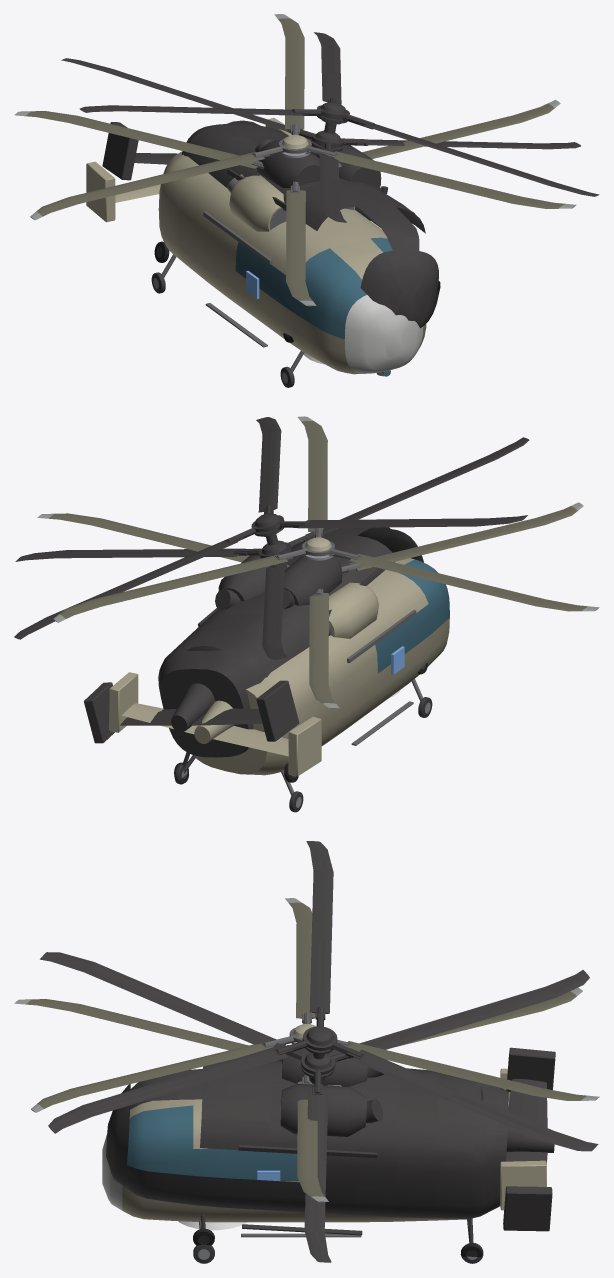
The model's file is navalHelicopter__ka_27pl.glb.
The picture shows the model from 3 angles, top to bottom: view 1: azimuth 30°, elevation 25°; view 2: azimuth 150°, elevation 25°; view 3: azimuth 270°, elevation 25°; orthographic projection. The views are drawn at different scales.
Parts seen in each view (by area): view 1: Fuselage_Mesh, Wreck, Rotor_Main_2_Mesh, Rotor_Main_Mesh, Engines_Mesh, Landing_Gear_Mesh; view 2: Wreck, Fuselage_Mesh, Rotor_Main_2_Mesh, Rotor_Main_Mesh, Engines_Mesh, Landing_Gear_Mesh; view 3: Wreck, Fuselage_Mesh, Rotor_Main_2_Mesh, Rotor_Main_Mesh, Landing_Gear_Mesh.
Boxes of the visible parts, x1,y1,x2,y2 form: Fuselage_Mesh: [86, 117, 426, 376]; Wreck: [61, 32, 599, 342]; Rotor_Main_2_Mesh: [30, 14, 576, 220]; Rotor_Main_Mesh: [14, 100, 560, 306]; Engines_Mesh: [227, 174, 355, 231]; Landing_Gear_Mesh: [151, 254, 304, 387]; Wreck: [14, 417, 529, 783]; Fuselage_Mesh: [109, 558, 449, 776]; Rotor_Main_2_Mesh: [53, 416, 599, 622]; Rotor_Main_Mesh: [37, 502, 583, 708]; Engines_Mesh: [328, 582, 378, 638]; Landing_Gear_Mesh: [174, 679, 432, 812]; Wreck: [40, 841, 598, 1262]; Fuselage_Mesh: [102, 1068, 546, 1237]; Rotor_Main_2_Mesh: [31, 898, 599, 1112]; Rotor_Main_Mesh: [14, 987, 582, 1202]; Landing_Gear_Mesh: [193, 1219, 483, 1263].
Size of what is drawn, in the model's own units: 16.51 by 7.72 by 14.31.
